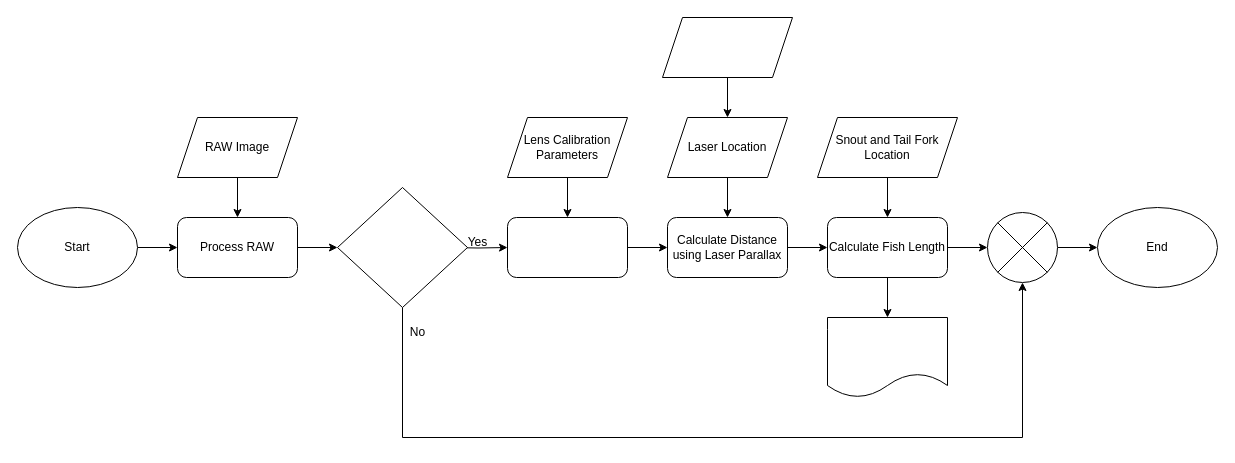
Some shapes in this 1235 by 463 pixel diagram are drawn without their labels. The shapes that lost their labels are listed below. From the top down, each one's centre as x and y in pixels, then its label:
(x=727, y=47): Laser Calibration Parameters
(x=402, y=247): Is the fish and laser visible?
(x=567, y=247): Undistort Image
(x=887, y=357): Fish Length
